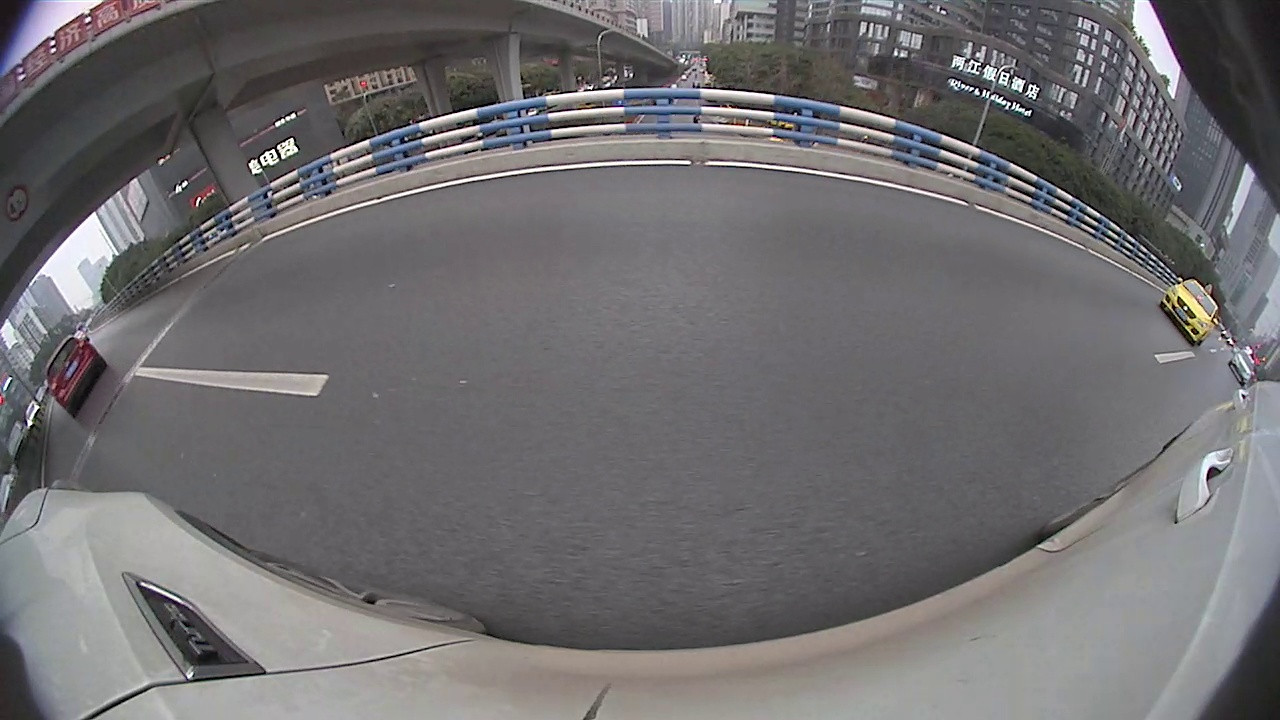car: (859, 132, 1193, 337), (603, 124, 751, 238), (0, 352, 127, 478), (454, 139, 570, 221), (780, 145, 892, 214), (747, 159, 788, 190), (562, 162, 597, 190)
front: (863, 195, 899, 247), (780, 179, 791, 199)
person: (1238, 304, 1249, 366), (1221, 295, 1233, 346), (1200, 273, 1209, 329), (1186, 276, 1194, 326)
rear: (1012, 248, 1088, 333), (814, 183, 830, 210), (540, 180, 547, 214)
